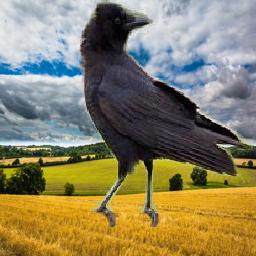Crow: (77, 1, 253, 228)
